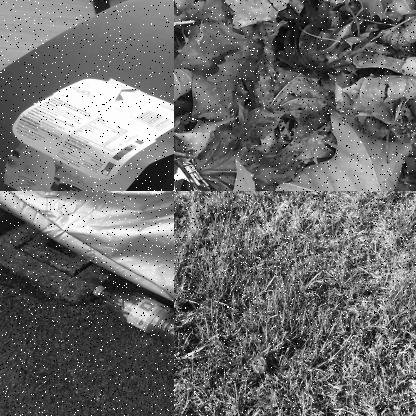plastic: (3, 80, 173, 190), (86, 283, 173, 371), (174, 156, 227, 190), (251, 353, 267, 374)
